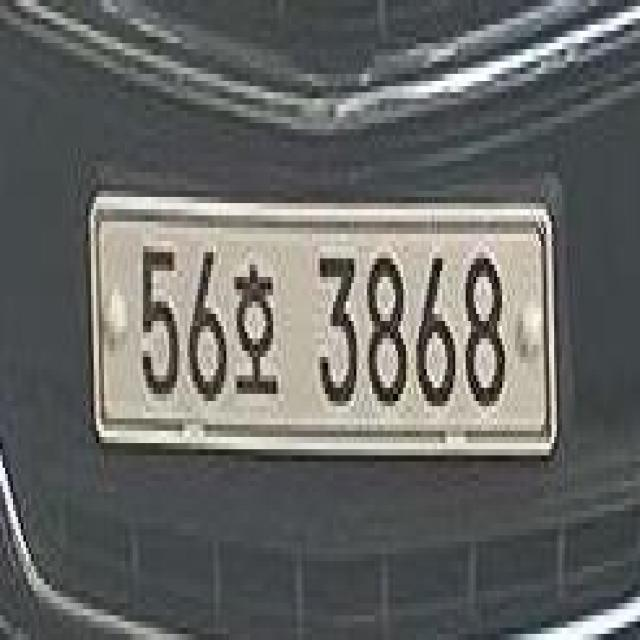3: (312, 232, 362, 412)
5: (134, 236, 182, 407)
6: (411, 237, 459, 410), (186, 237, 228, 404)
8: (460, 246, 510, 412), (366, 240, 410, 407)
ho: (230, 250, 282, 412)
license_plate: (83, 170, 562, 476)
